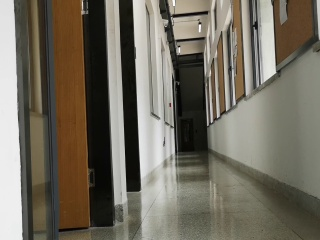room: (13, 2, 116, 240)
